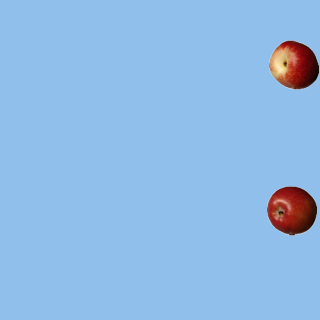Apple Braeburn: (266, 185, 316, 235)
Nectarine: (268, 39, 318, 89)
